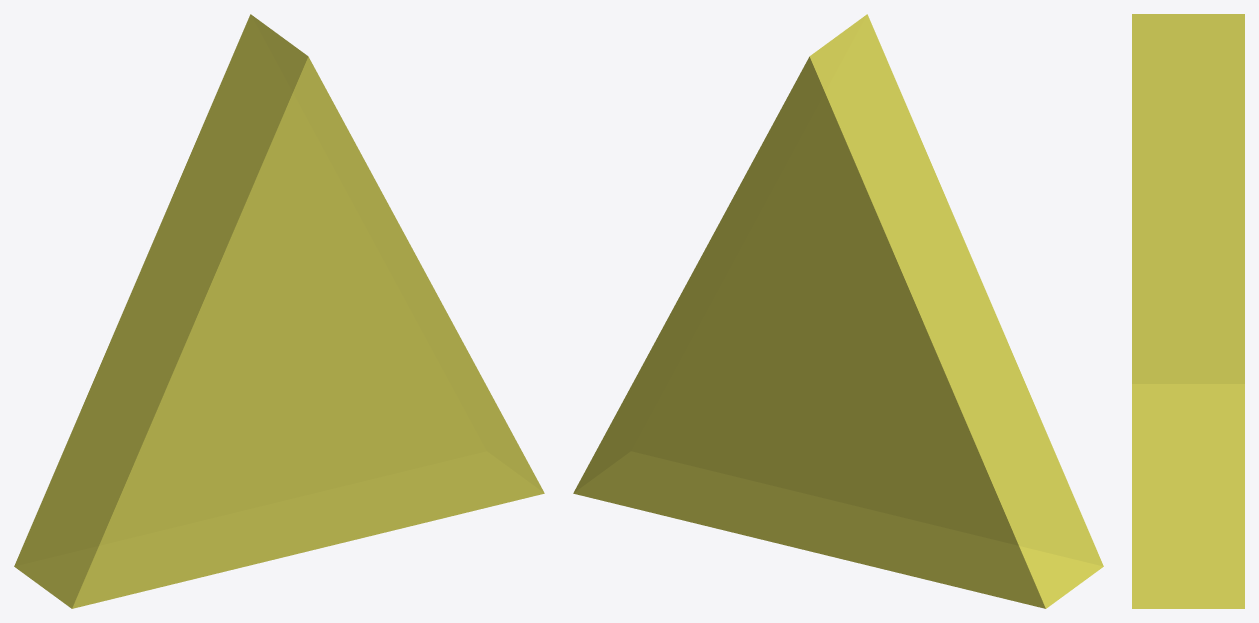
File: direction.fbx
3 renders of one model, left to right at view 1: azimuth 30°, elevation 25°; view 2: azimuth 150°, elevation 25°; view 3: azimuth 270°, elevation 25°, orthographic. The views are drawn at different scales.
Visible parts, largest first — view 1: Direction; view 2: Direction; view 3: Direction.
Boxes of the visible parts, x1=… form: Direction: x1=14, y1=14, x2=544, y2=608; Direction: x1=573, y1=14, x2=1103, y2=608; Direction: x1=1132, y1=14, x2=1244, y2=608.
Bounding box in the file's own units: 141 × 141 × 30.
